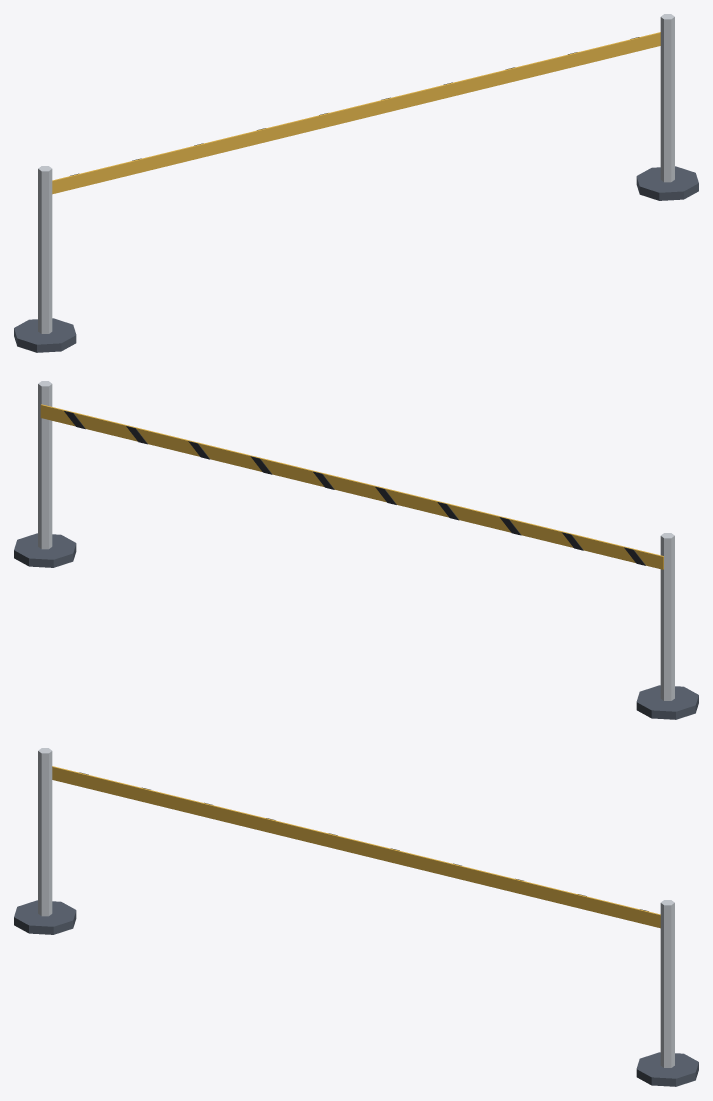
The model's file is police_tape.glb.
3 renders of one model, top to bottom at view 1: azimuth 30°, elevation 25°; view 2: azimuth 150°, elevation 25°; view 3: azimuth 330°, elevation 25°, orthographic.
Visible parts, largest first — view 1: Body; view 2: Body; view 3: Body.
Part boxes in pixels (x1,y1,x2,y2): Body: (14,14,698,352); Body: (14,381,698,719); Body: (14,748,698,1086).
Bounding box in the file's own units: 4.36 × 1.05 × 0.36.
